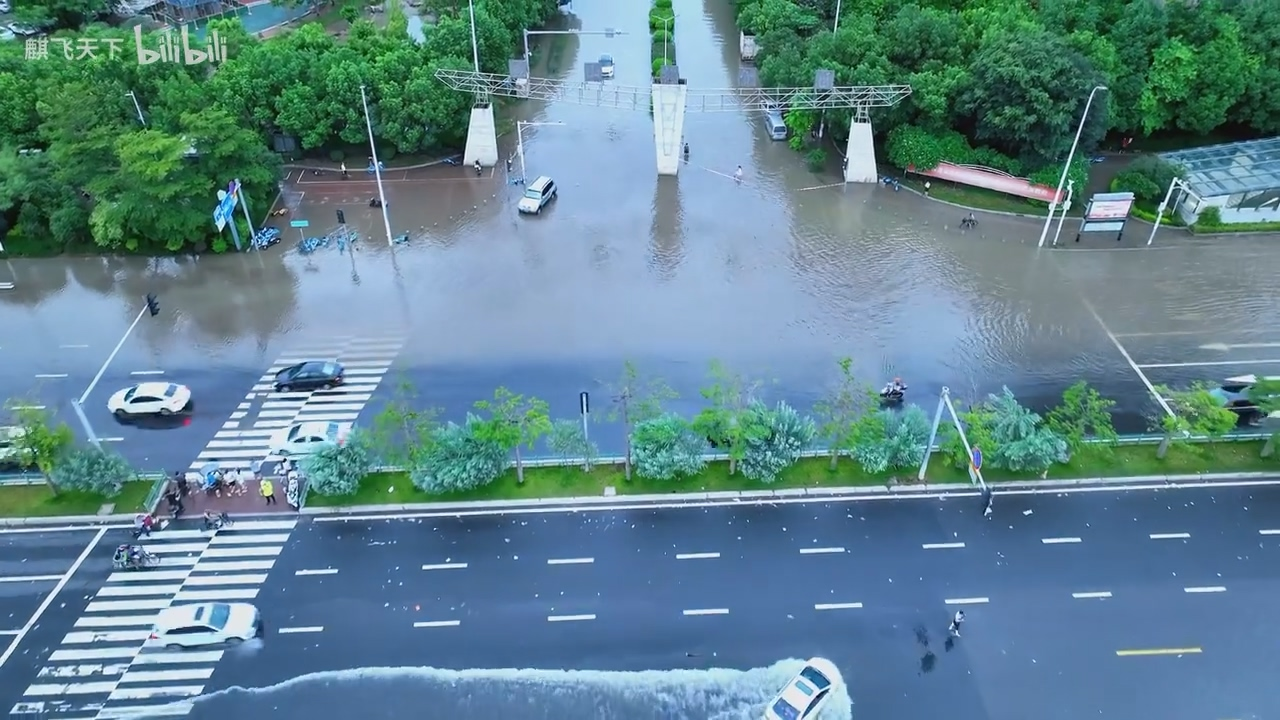puddle: (12, 245, 1277, 378)
